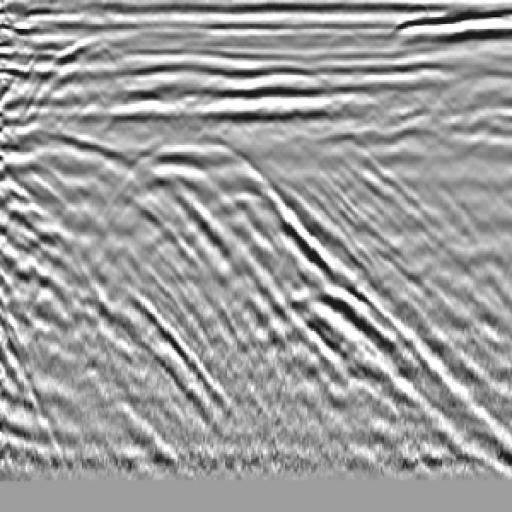non-metallic: (47, 125, 420, 419)
